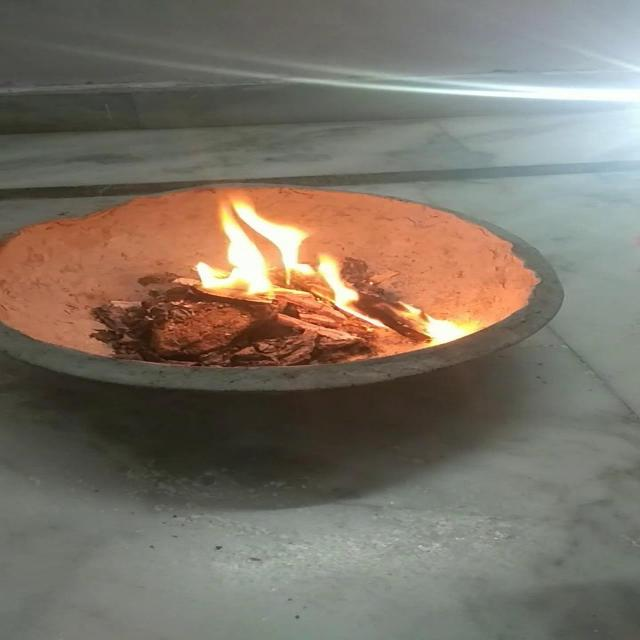fire: (185, 197, 468, 349)
